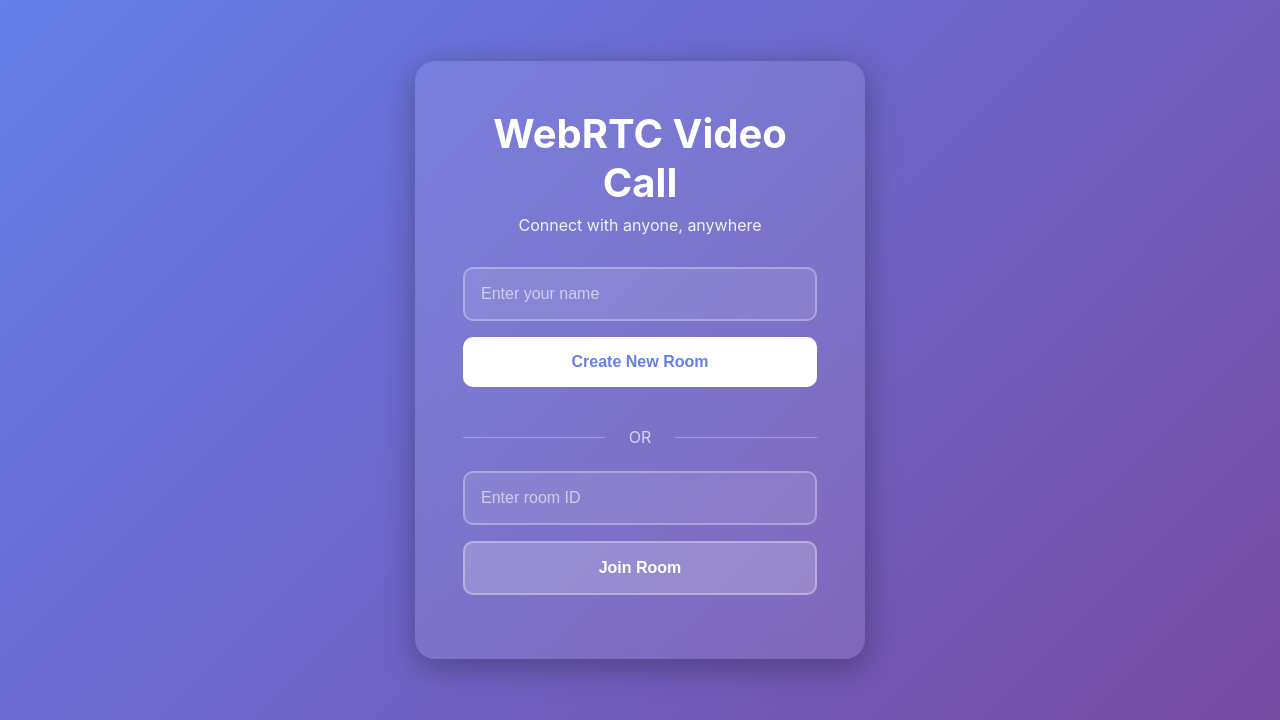
Home Component › should disable buttons while loading
In the field with placeholder "Enter your name": point(640, 294) [463, 267, 817, 321], type "John Doe"
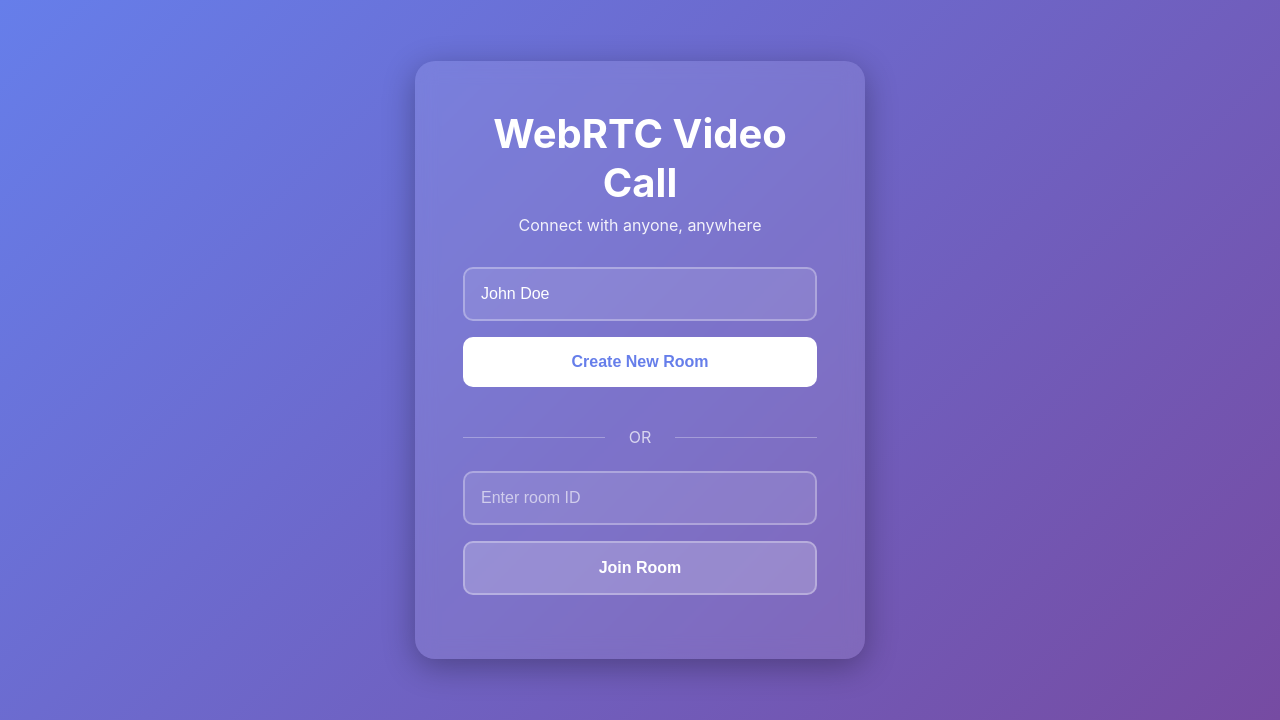
Click the button "Create New Room": point(640, 362) [463, 337, 817, 387]
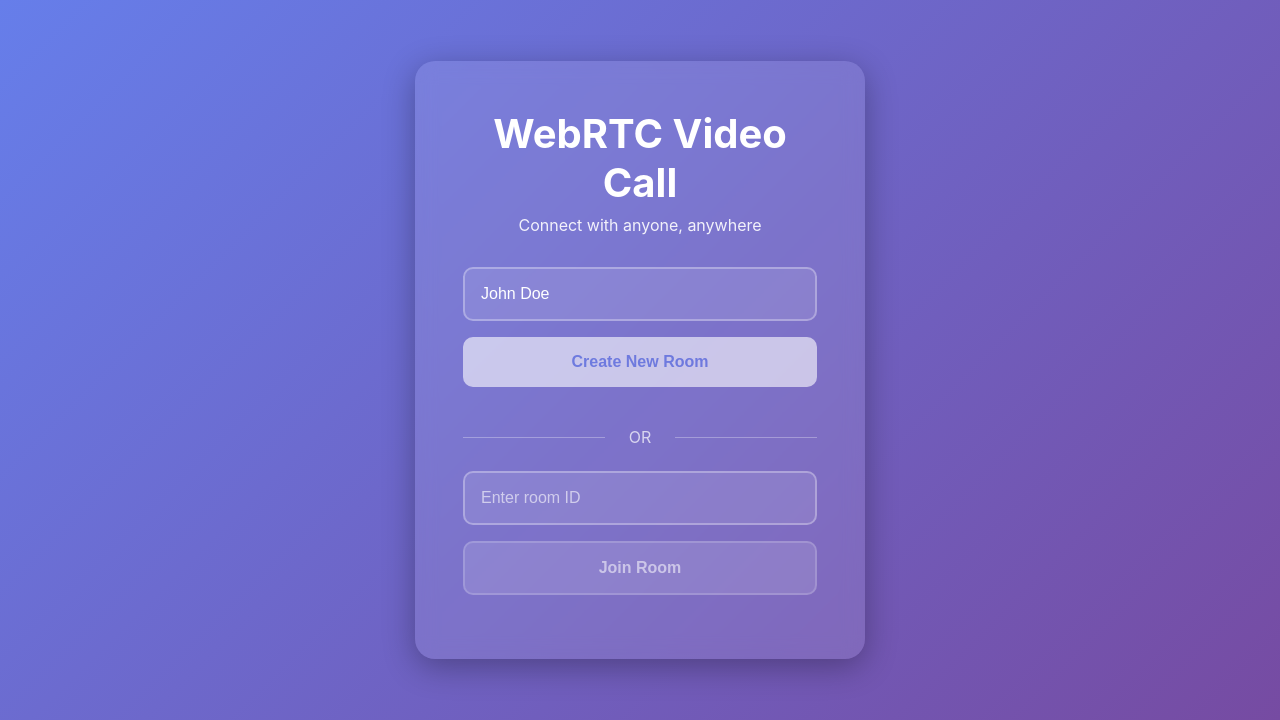
Now the button "Create New Room" is disabled, box [463, 337, 817, 387]
Now the button "Join Room" is disabled, box [463, 541, 817, 595]
